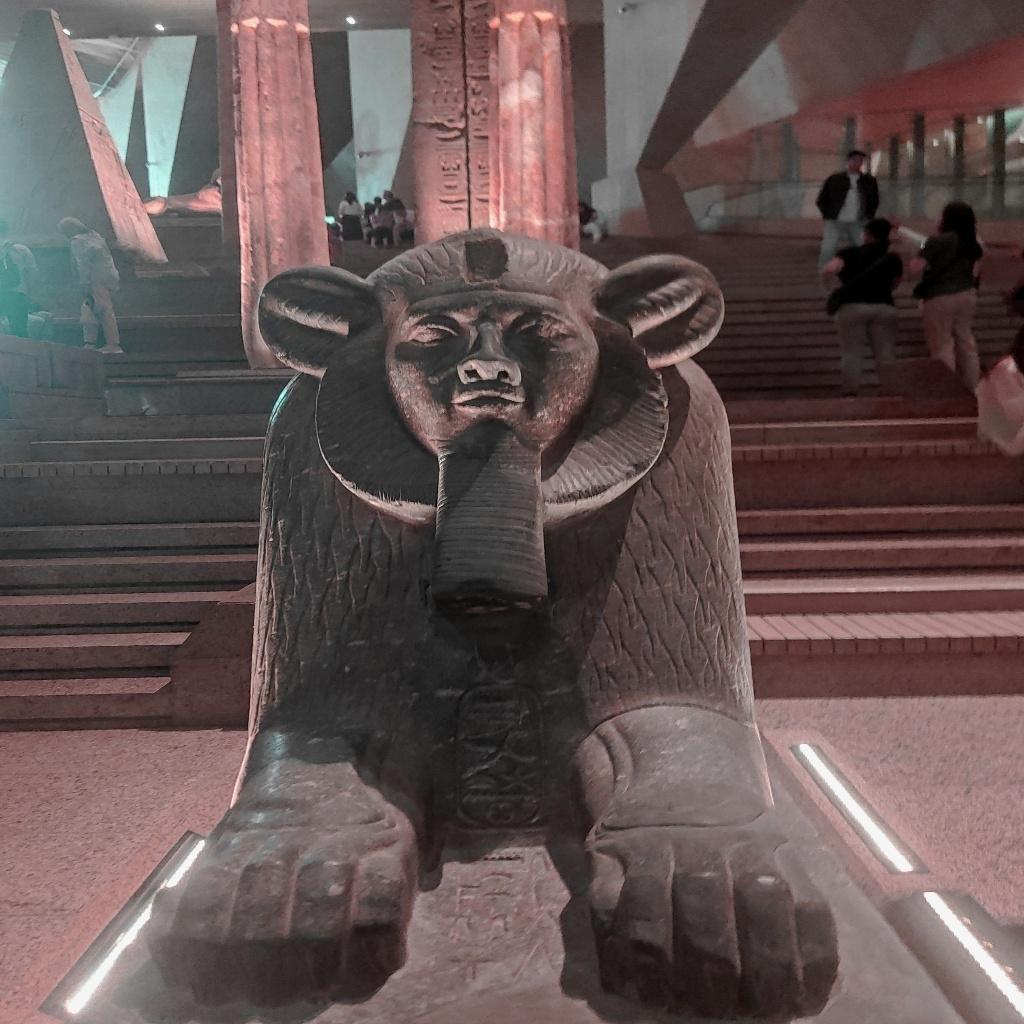Sphinx of Amenmhat III: (144, 224, 846, 1020)
